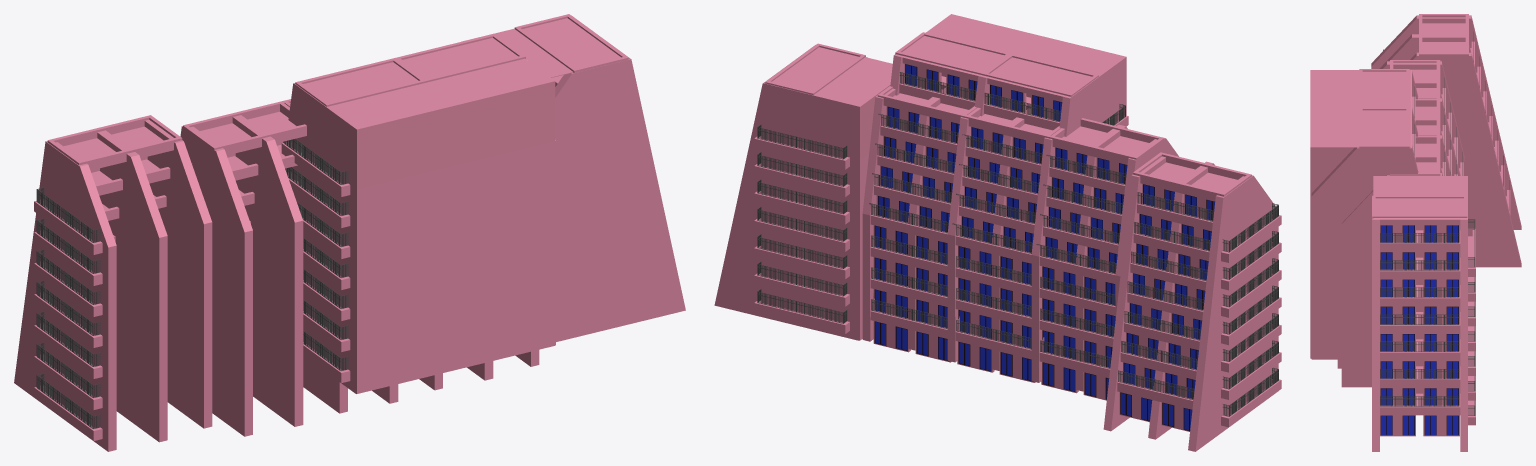
File: sundaiichigayaheits.fbx
The picture shows the model from 3 angles, left to right: view 1: azimuth 30°, elevation 25°; view 2: azimuth 150°, elevation 25°; view 3: azimuth 270°, elevation 25°; orthographic projection. The views are drawn at different scales.
Visible parts, largest first — view 1: 立方体.020, 立方体.021, 立方体.024; view 2: 立方体.020, 立方体.021, 立方体.024; view 3: 立方体.020, 立方体.024, 立方体.021.
Boxes of the visible parts, left/top/right/bottom form: 立方体.020: left=180, top=33, right=555, bottom=436; 立方体.021: left=14, top=115, right=212, bottom=451; 立方体.024: left=463, top=14, right=685, bottom=341; 立方体.020: left=862, top=14, right=1178, bottom=400; 立方体.021: left=1103, top=152, right=1281, bottom=451; 立方体.024: left=714, top=43, right=892, bottom=340; 立方体.020: left=1310, top=60, right=1464, bottom=387; 立方体.024: left=1372, top=176, right=1475, bottom=451; 立方体.021: left=1371, top=14, right=1521, bottom=267.
Bounding box in the file's own units: 2151 × 1068 × 841.
